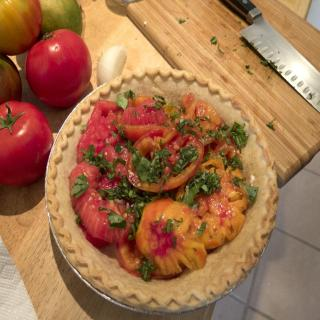tomato: (24, 27, 91, 107), (0, 99, 52, 189), (0, 0, 40, 57), (37, 0, 82, 33), (0, 55, 21, 103)
